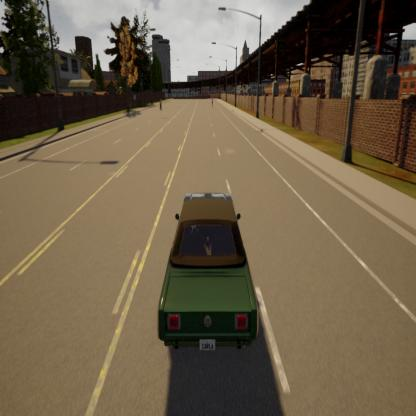Cars: (148, 185, 266, 359)
